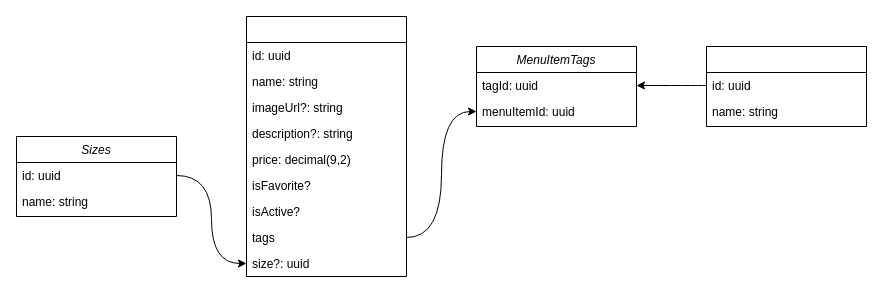
The diagram is 883 pixels wide and 293 high, and some of its shapes have lost their labels. The box of each missing label's shape, as (x1, y1, x2, y2) in pixels:
MenuItem: (246, 16, 406, 276)
Tag: (706, 46, 866, 126)
